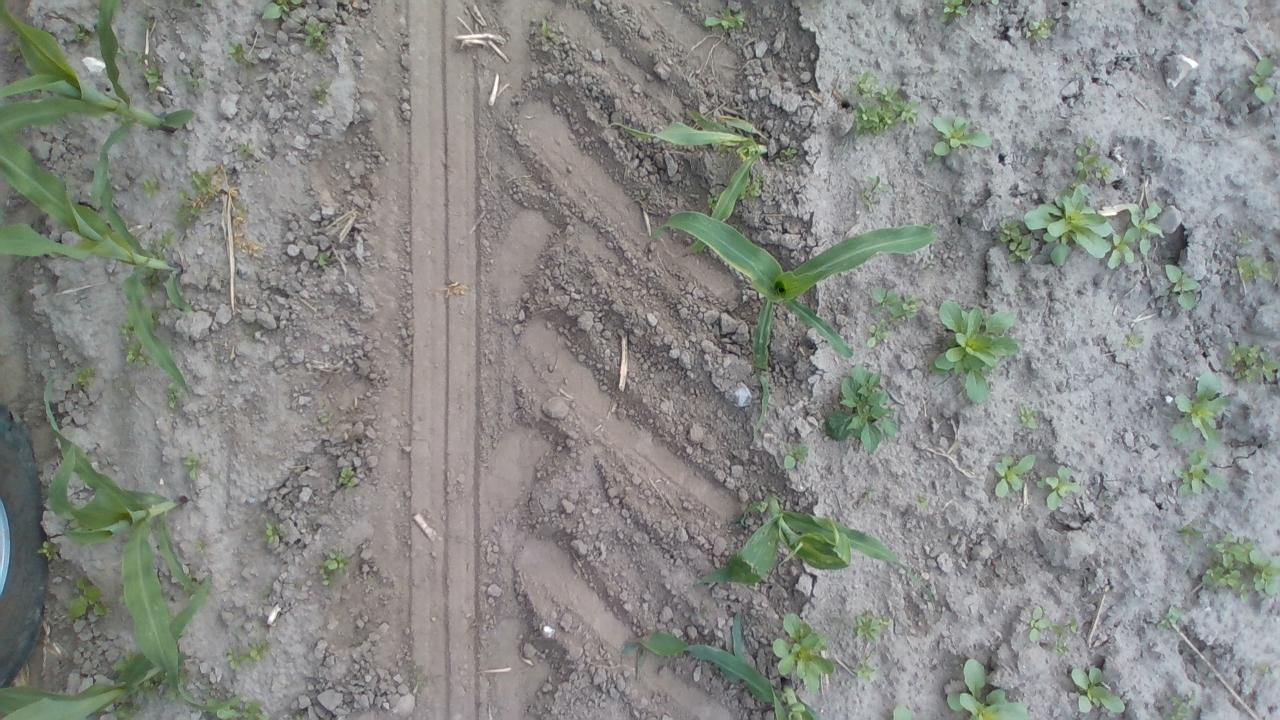Maize: (638, 209, 943, 428), (41, 373, 234, 714), (0, 134, 197, 398), (0, 0, 196, 210), (2, 572, 214, 719), (691, 497, 942, 608), (608, 113, 766, 257), (618, 608, 826, 716)
Weeds: (936, 296, 1021, 406), (822, 362, 909, 452), (1026, 188, 1110, 276), (1196, 526, 1280, 604), (949, 650, 1032, 720), (764, 614, 834, 691), (846, 74, 921, 141), (1165, 373, 1231, 444), (1109, 204, 1171, 272), (928, 106, 993, 168), (1061, 659, 1124, 720), (868, 281, 926, 346), (1224, 226, 1278, 292), (130, 49, 180, 106), (1168, 451, 1228, 498), (990, 452, 1040, 506), (173, 170, 217, 231), (1228, 337, 1279, 387), (1071, 138, 1122, 187), (1041, 464, 1082, 512), (66, 578, 110, 622), (1039, 616, 1084, 656), (1246, 54, 1280, 105), (314, 542, 354, 584), (1163, 262, 1200, 307), (778, 437, 822, 474), (218, 642, 281, 666), (221, 39, 258, 75), (855, 616, 892, 650), (1019, 604, 1052, 642), (258, 0, 312, 23), (857, 172, 888, 211), (179, 450, 212, 484), (338, 456, 367, 494), (67, 364, 103, 392), (1019, 409, 1050, 439), (262, 518, 292, 548), (1120, 326, 1150, 356), (704, 12, 748, 32), (125, 343, 156, 370), (308, 80, 337, 108), (1028, 14, 1056, 43), (1160, 597, 1186, 628), (936, 2, 972, 24), (68, 21, 95, 48), (888, 696, 918, 720), (161, 382, 183, 413), (852, 657, 879, 680), (314, 250, 340, 273), (304, 27, 326, 51), (752, 172, 768, 200), (782, 138, 799, 164), (36, 546, 60, 564), (704, 191, 724, 212), (115, 322, 136, 339)
